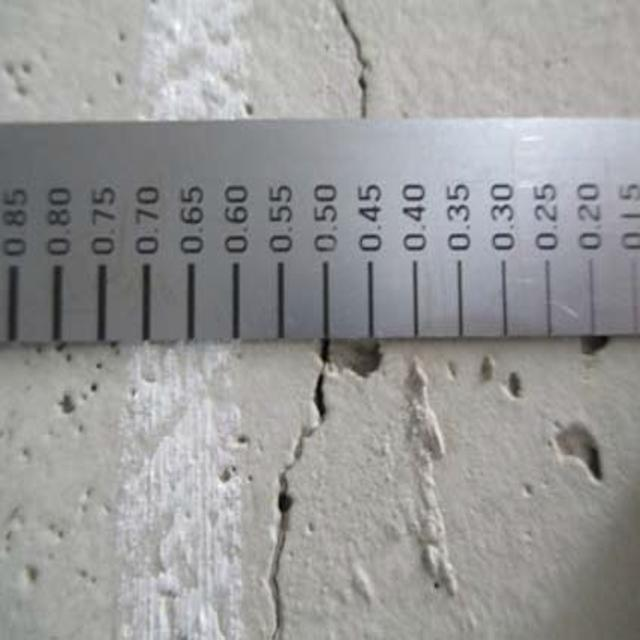crack: (244, 346, 346, 637), (324, 9, 409, 127)
